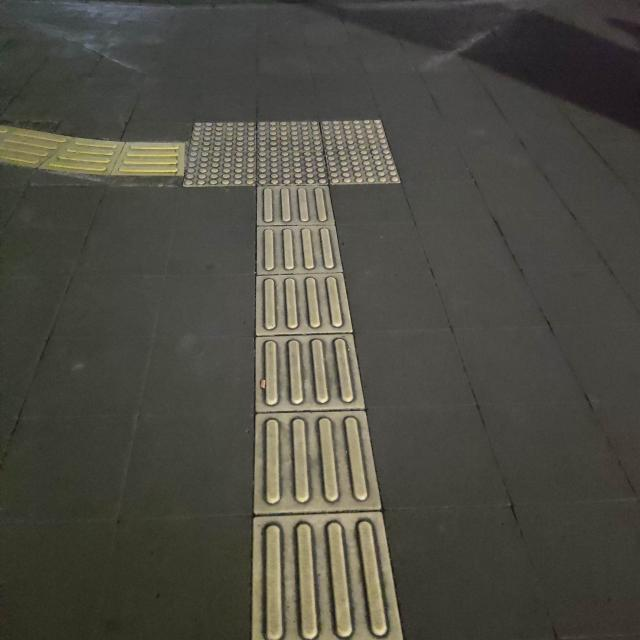kiri: (98, 96, 358, 223)
